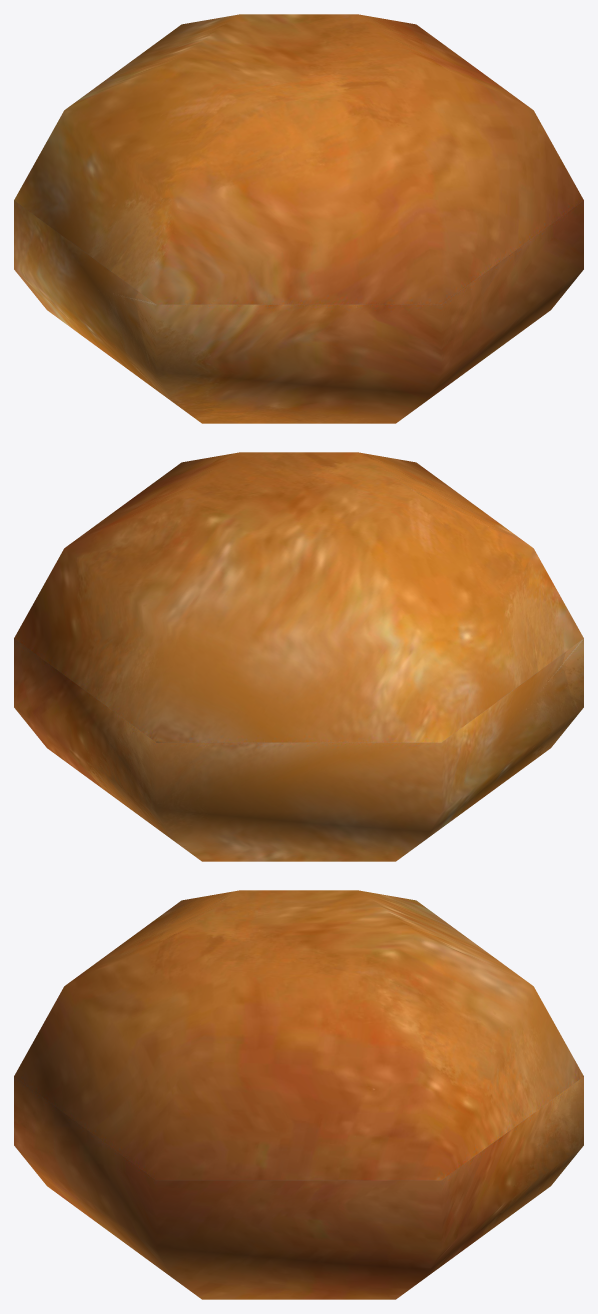
The model's file is Bun.fbx.
The picture shows the model from 3 angles, top to bottom: view 1: azimuth 30°, elevation 25°; view 2: azimuth 150°, elevation 25°; view 3: azimuth 270°, elevation 25°; orthographic projection.
Visible parts, largest first — view 1: BunSingle; view 2: BunSingle; view 3: BunSingle.
Boxes of the visible parts, x1,y1,x2,y2 form: BunSingle: (14, 14, 583, 423); BunSingle: (14, 452, 583, 861); BunSingle: (14, 890, 583, 1299).
Size of the model in its own units: 41.39 by 27.22 by 47.8.
